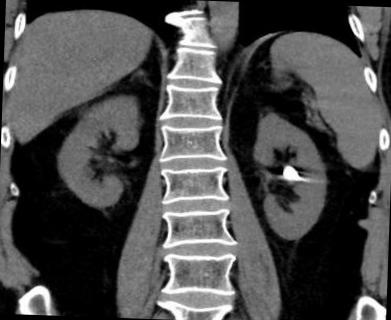Tas_Var: (281, 162, 305, 184)
